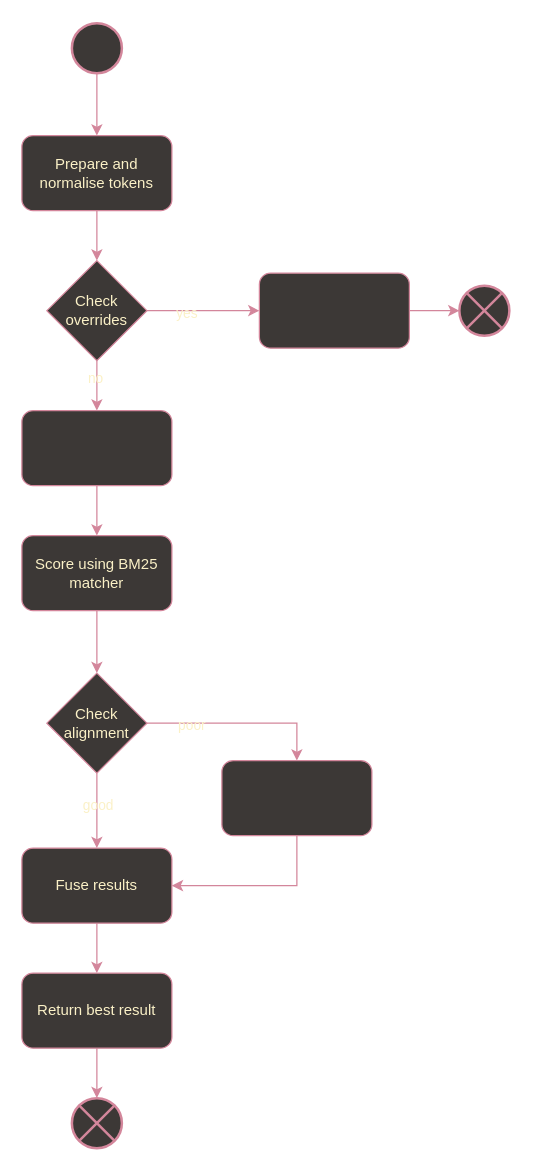
The diagram is 533 pixels wide and 1170 high, and some of its shapes have lost their labels. The shapes that lost their labels are listed below. From the top down, each one's box as (x1, y1, x2, y2) in pixels, then its label:
(258, 272, 409, 348): Return override
(21, 409, 172, 486): Score using uSIF matcher
(221, 759, 372, 836): Score using Fuzzy matcher
